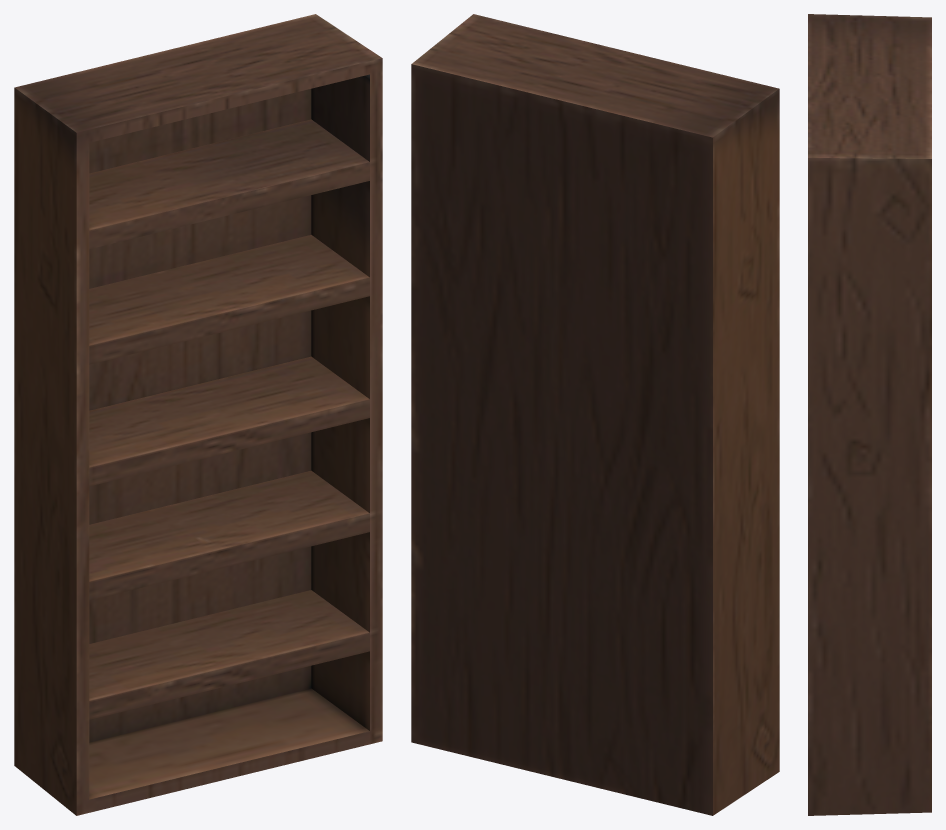
Rendered from Shelf2.fbx.
3 views of the same model, side by side, from view 1: azimuth 30°, elevation 25°; view 2: azimuth 150°, elevation 25°; view 3: azimuth 270°, elevation 25° (orthographic). The views are drawn at different scales.
Parts seen in each view (by area): view 1: BookShelfModel; view 2: BookShelfModel; view 3: BookShelfModel.
Part boxes in pixels (<box>): BookShelfModel: <box>14,14,382,815</box>; BookShelfModel: <box>411,14,779,815</box>; BookShelfModel: <box>808,14,931,815</box>.
Bounding box in the file's own units: 174 × 372 × 63.56.
